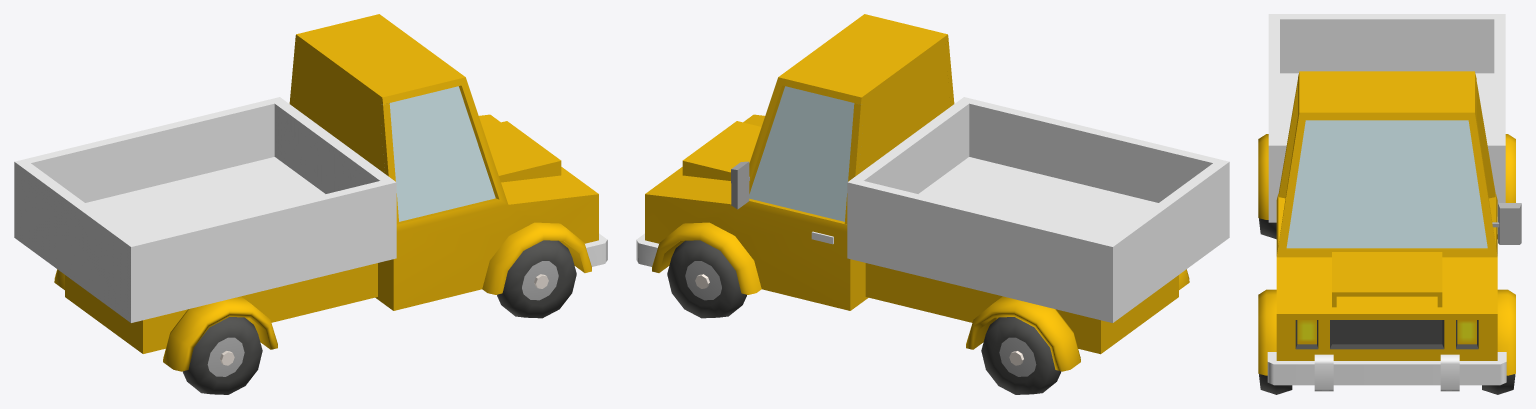
The model's file is truck_yellow.fbx.
3 views of the same model, side by side, from view 1: azimuth 30°, elevation 25°; view 2: azimuth 150°, elevation 25°; view 3: azimuth 270°, elevation 25° (orthographic).
Parts seen in each view (by area): view 1: truck_yellow; view 2: truck_yellow; view 3: truck_yellow.
Boxes of the visible parts, <box> form: truck_yellow: <box>14,14,607,394</box>; truck_yellow: <box>636,14,1229,394</box>; truck_yellow: <box>1258,14,1521,394</box>.
Size of the model in its own units: 293 by 143 by 136.
1 material, 1 textured.
